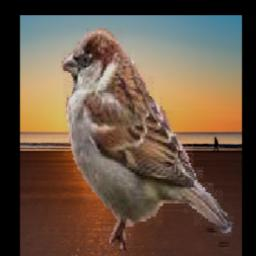Sparrow: (62, 28, 233, 251)
